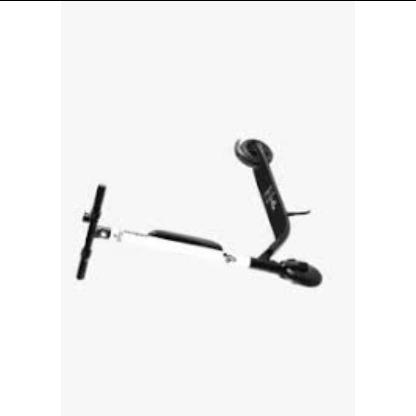bike: (77, 137, 323, 289)
